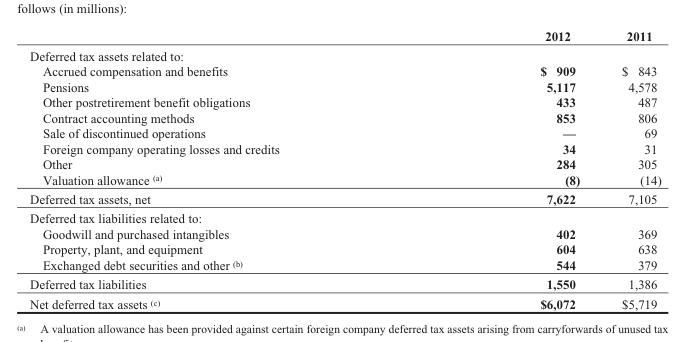table: (29, 28, 660, 310)
table column: (29, 28, 409, 310), (409, 28, 600, 310), (600, 28, 660, 310)
table column header: (29, 28, 660, 45)
table projected row header: (29, 45, 660, 63), (29, 208, 660, 225)
table row: (29, 189, 660, 208), (29, 274, 660, 293), (29, 45, 660, 63), (29, 171, 660, 189), (29, 256, 660, 274), (29, 28, 660, 45), (29, 208, 660, 225), (29, 293, 660, 310), (29, 78, 660, 94), (29, 109, 660, 125), (29, 140, 660, 156), (29, 225, 660, 241), (29, 63, 660, 78), (29, 94, 660, 109), (29, 125, 660, 140), (29, 156, 660, 171), (29, 241, 660, 256)
